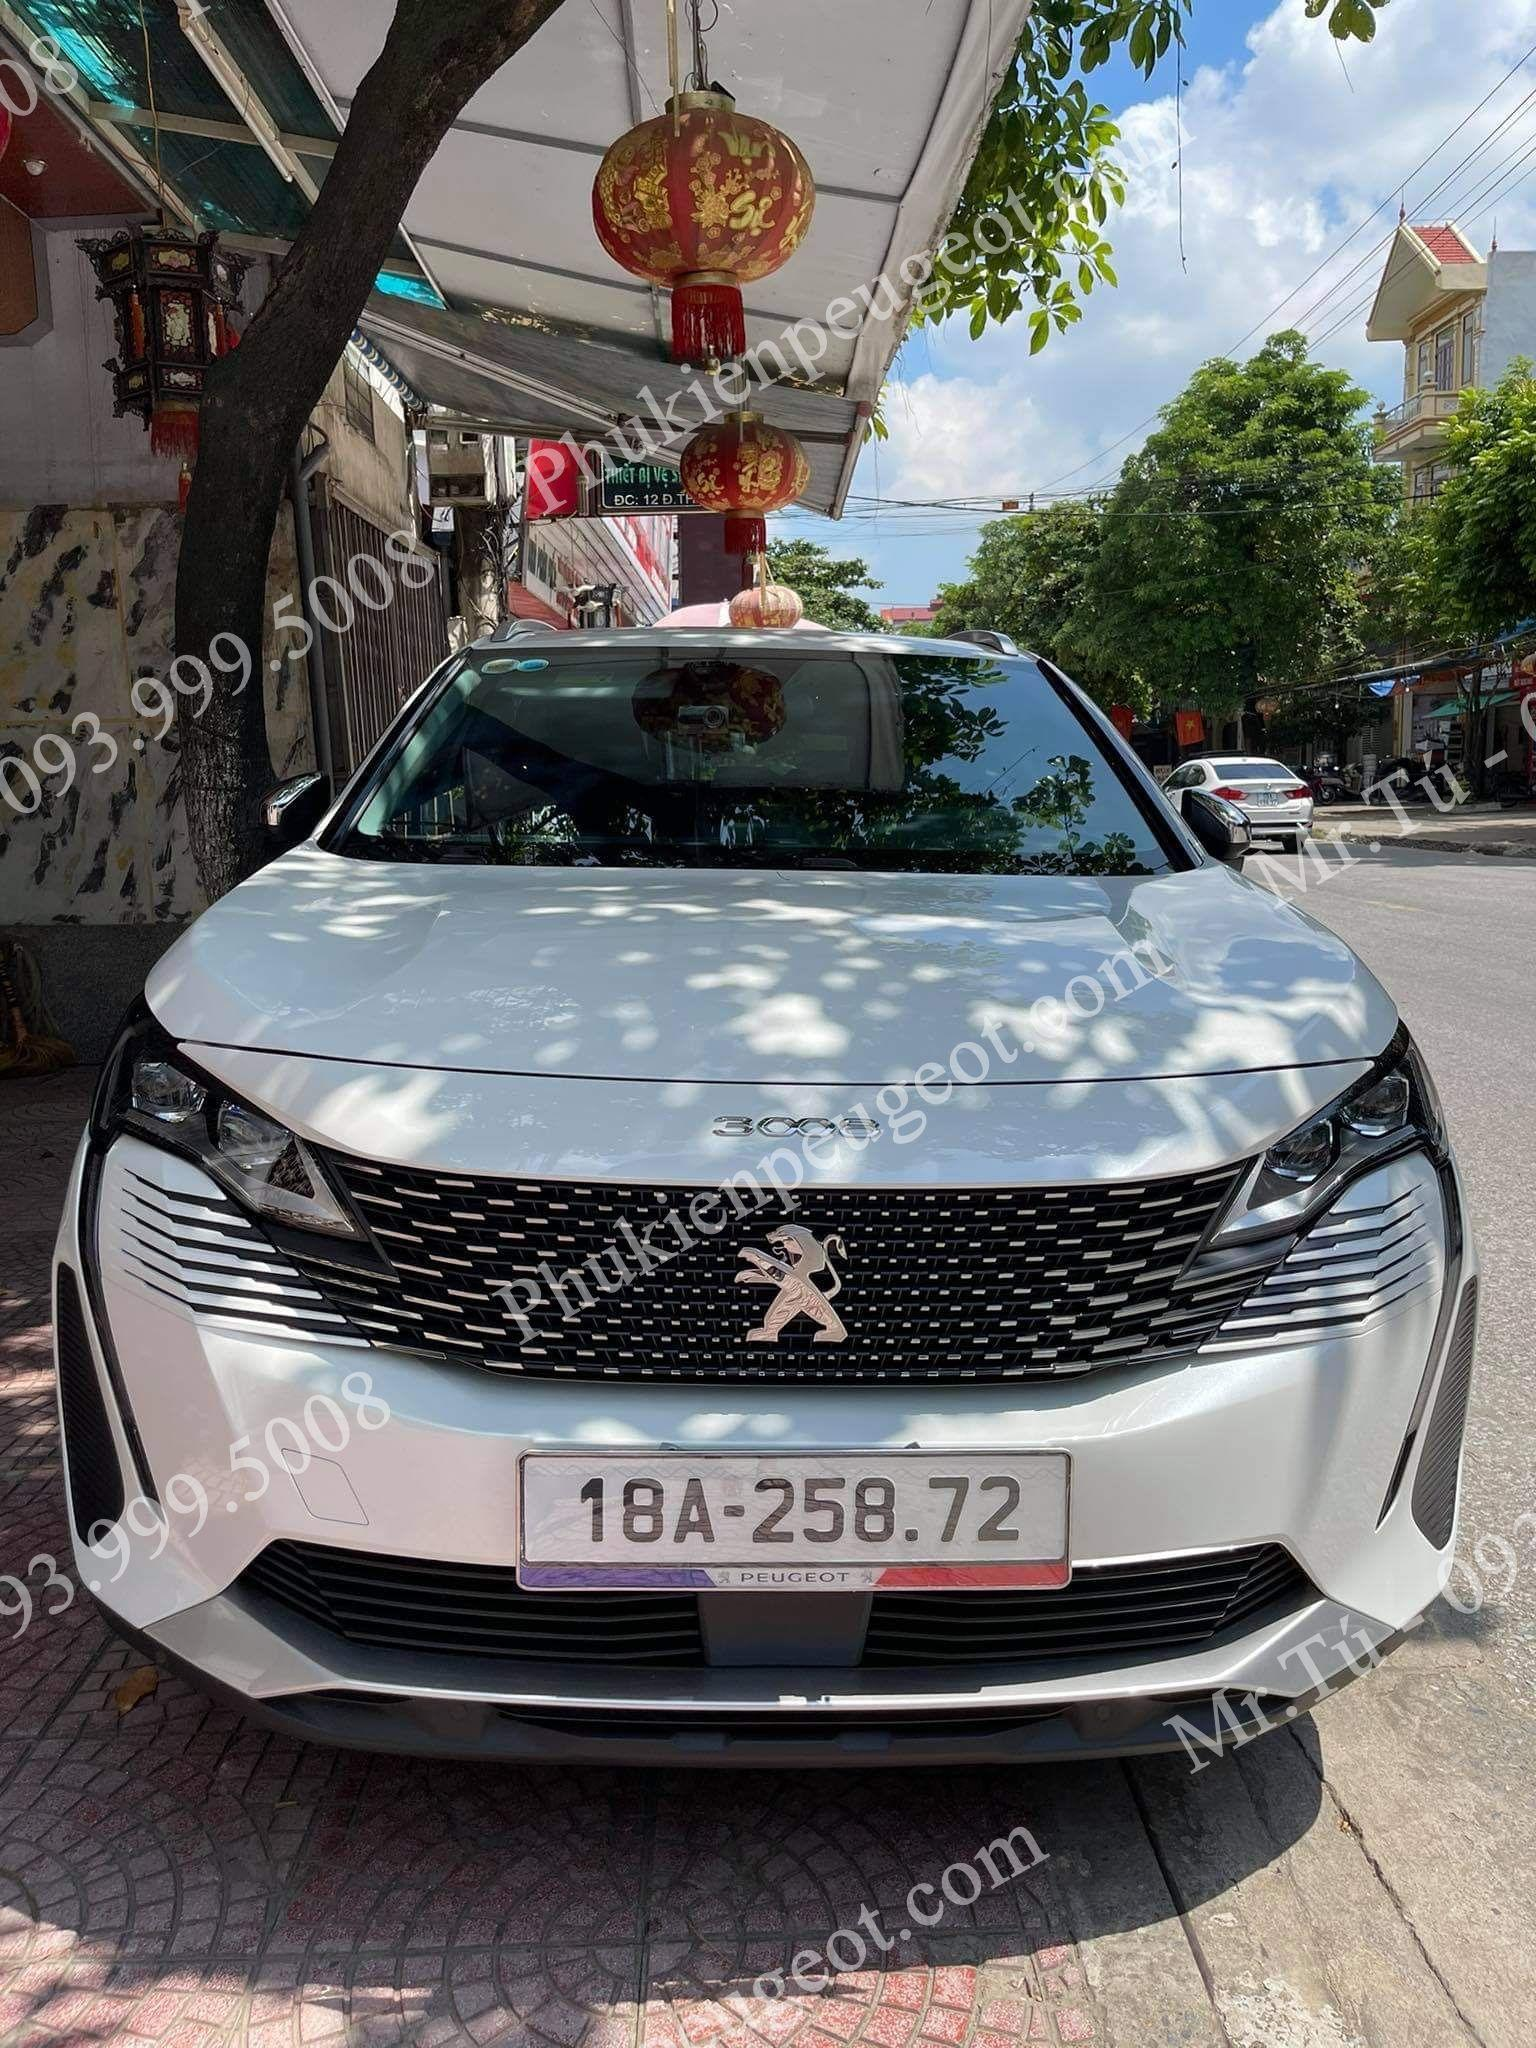numplate: (510, 1430, 1076, 1594)
